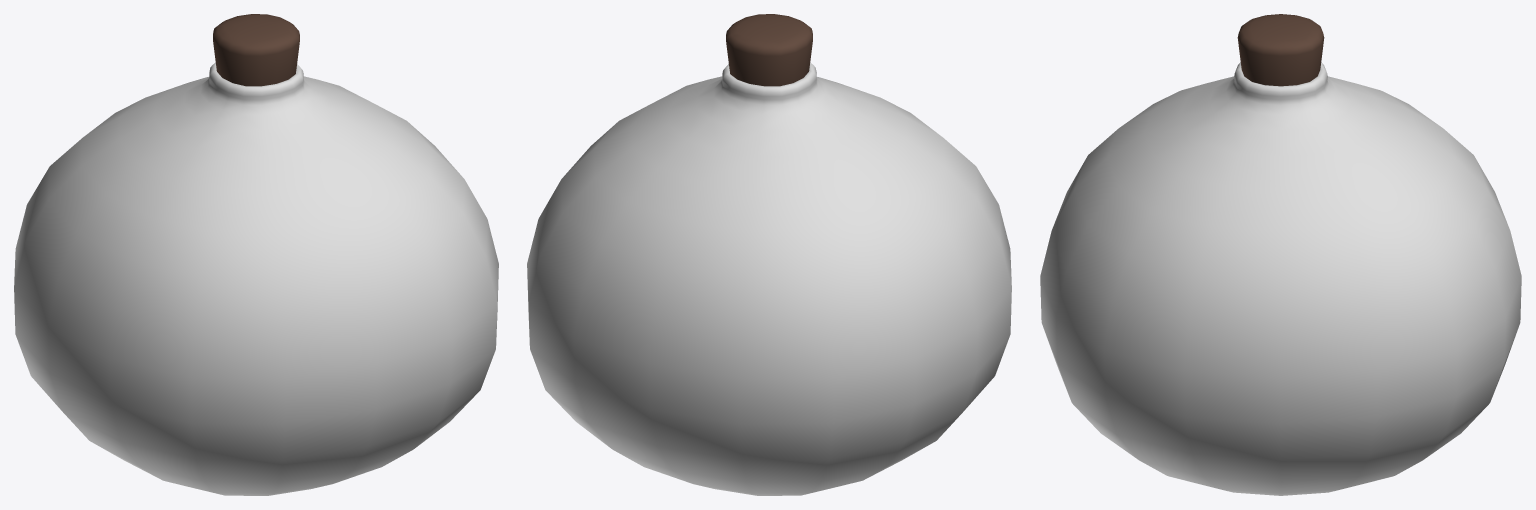
File: Potion9_Filled.glb
3 renders of one model, left to right at view 1: azimuth 30°, elevation 25°; view 2: azimuth 150°, elevation 25°; view 3: azimuth 270°, elevation 25°, orthographic.
Parts seen in each view (by area): view 1: Potion9_Filled; view 2: Potion9_Filled; view 3: Potion9_Filled.
Part boxes in pixels (x1,y1,x2,y2): Potion9_Filled: (14,14,498,495); Potion9_Filled: (527,14,1011,495); Potion9_Filled: (1040,14,1521,495).
Bounding box in the file's own units: 1.26 × 1.29 × 1.26.
